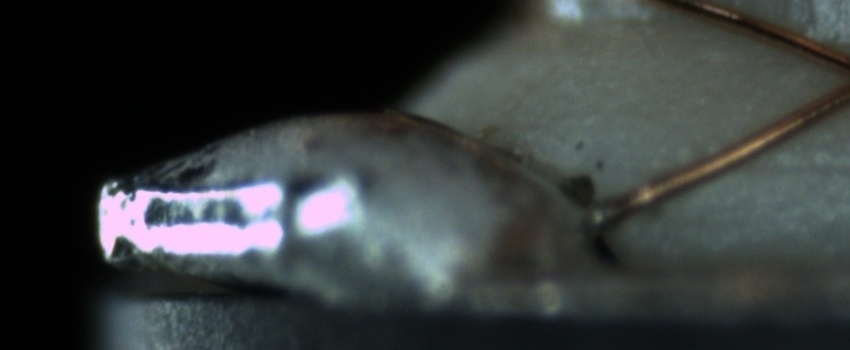CL: (832, 47, 850, 106)
DL: (732, 135, 849, 196)
